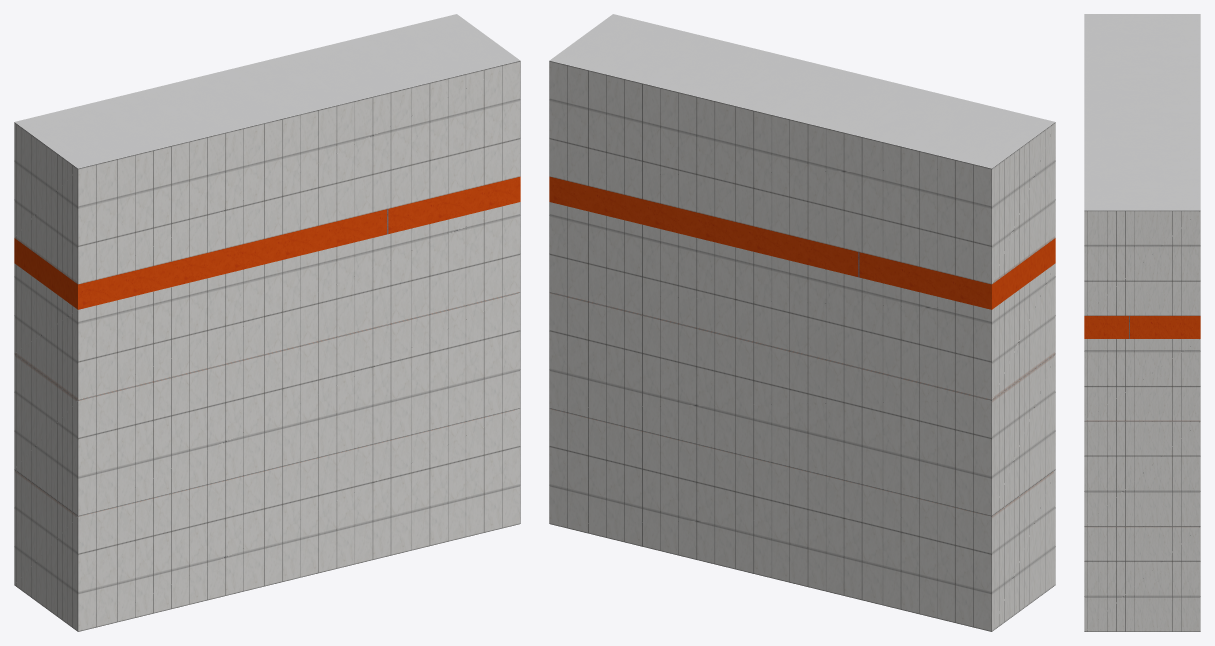
The model's file is WallThick_1.fbx.
3 views of the same model, side by side, from view 1: azimuth 30°, elevation 25°; view 2: azimuth 150°, elevation 25°; view 3: azimuth 270°, elevation 25° (orthographic). The views are drawn at different scales.
Visible parts, largest first — view 1: WallThick_1; view 2: WallThick_1; view 3: WallThick_1.
Boxes of the visible parts, <box> form: WallThick_1: <box>14,14,520,631</box>; WallThick_1: <box>549,14,1055,631</box>; WallThick_1: <box>1084,14,1200,631</box>.
Size of the model in its own units: 4 by 4 by 1.
